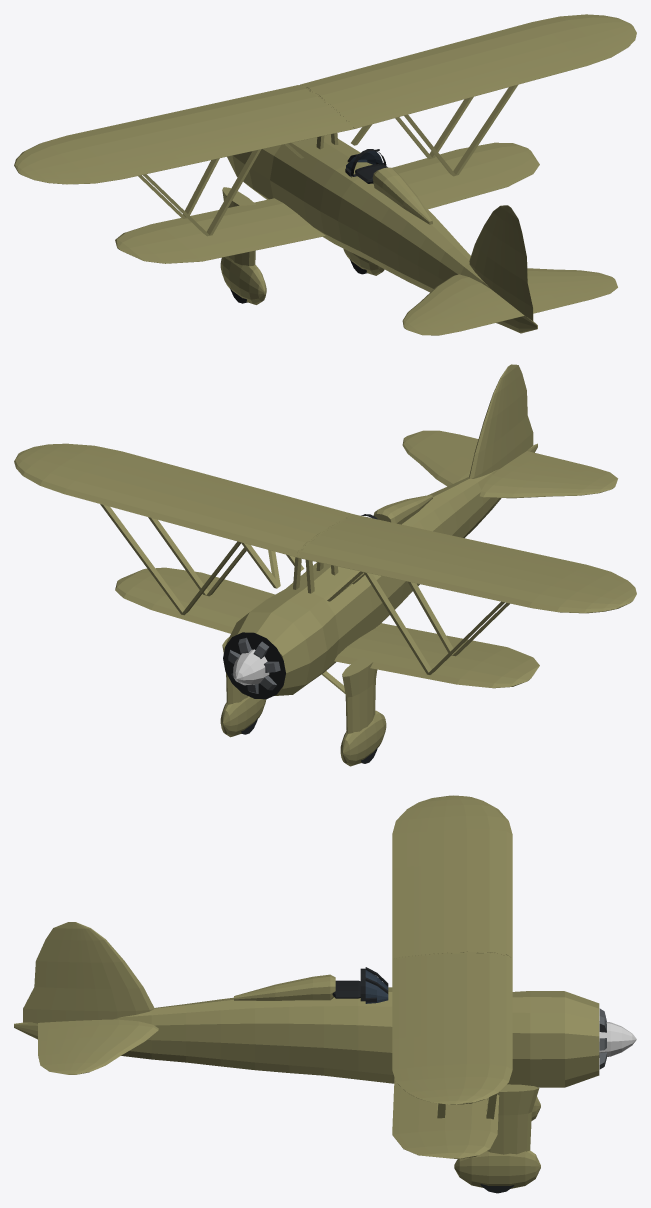
3 renders of one model, top to bottom at view 1: azimuth 30°, elevation 25°; view 2: azimuth 150°, elevation 25°; view 3: azimuth 270°, elevation 25°, orthographic. The views are drawn at different scales.
Visible parts, largest first — view 1: Wing L, Wing R, Fuselage, Struts, Stabilizer L, Rudder, Vertical Fin, Aileron R, Aileron L, Elevator L, Stabilizer R, Elevator R (+1 smaller); view 2: Wing L, Wing R, Fuselage, Struts, Stabilizer L, Vertical Fin, Stabilizer R, Rudder, Cowl Face, Aileron R, Aileron L, Elevator L (+4 smaller); view 3: Wing R, Fuselage, Wing L, Vertical Fin, Rudder, Stabilizer R, Head Fairing, Aileron L, Aileron R, Elevator R, Spinner.
Boxes of the visible parts, x1,y1,x2,y2 form: Wing L: [14, 85, 354, 304]; Wing R: [300, 14, 636, 275]; Fuselage: [227, 134, 537, 333]; Struts: [138, 85, 517, 236]; Stabilizer L: [402, 274, 502, 329]; Rudder: [502, 205, 533, 320]; Vertical Fin: [469, 205, 507, 297]; Aileron R: [510, 32, 635, 82]; Aileron L: [41, 152, 185, 184]; Elevator L: [406, 298, 524, 335]; Stabilizer R: [527, 268, 613, 292]; Elevator R: [530, 278, 617, 313]; Wing L: [297, 514, 636, 766]; Wing R: [14, 444, 354, 737]; Fuselage: [226, 443, 537, 695]; Struts: [100, 504, 509, 693]; Stabilizer L: [480, 462, 613, 498]; Vertical Fin: [469, 367, 509, 478]; Stabilizer R: [402, 435, 474, 486]; Rudder: [507, 364, 533, 462]; Cowl Face: [223, 632, 285, 699]; Aileron R: [41, 443, 185, 475]; Aileron L: [510, 551, 634, 591]; Elevator L: [509, 451, 617, 487]; Wing R: [392, 952, 540, 1193]; Fuselage: [14, 987, 599, 1087]; Wing L: [392, 795, 540, 1120]; Vertical Fin: [75, 922, 154, 1020]; Rudder: [23, 922, 79, 1023]; Stabilizer R: [62, 1019, 158, 1074]; Head Fairing: [234, 974, 335, 1000]; Aileron L: [392, 800, 434, 868]; Aileron R: [392, 1036, 434, 1098]; Elevator R: [38, 1020, 78, 1074]; Spinner: [599, 1021, 636, 1057].
Size of the model in its own units: 9.7 by 3.49 by 8.27.
